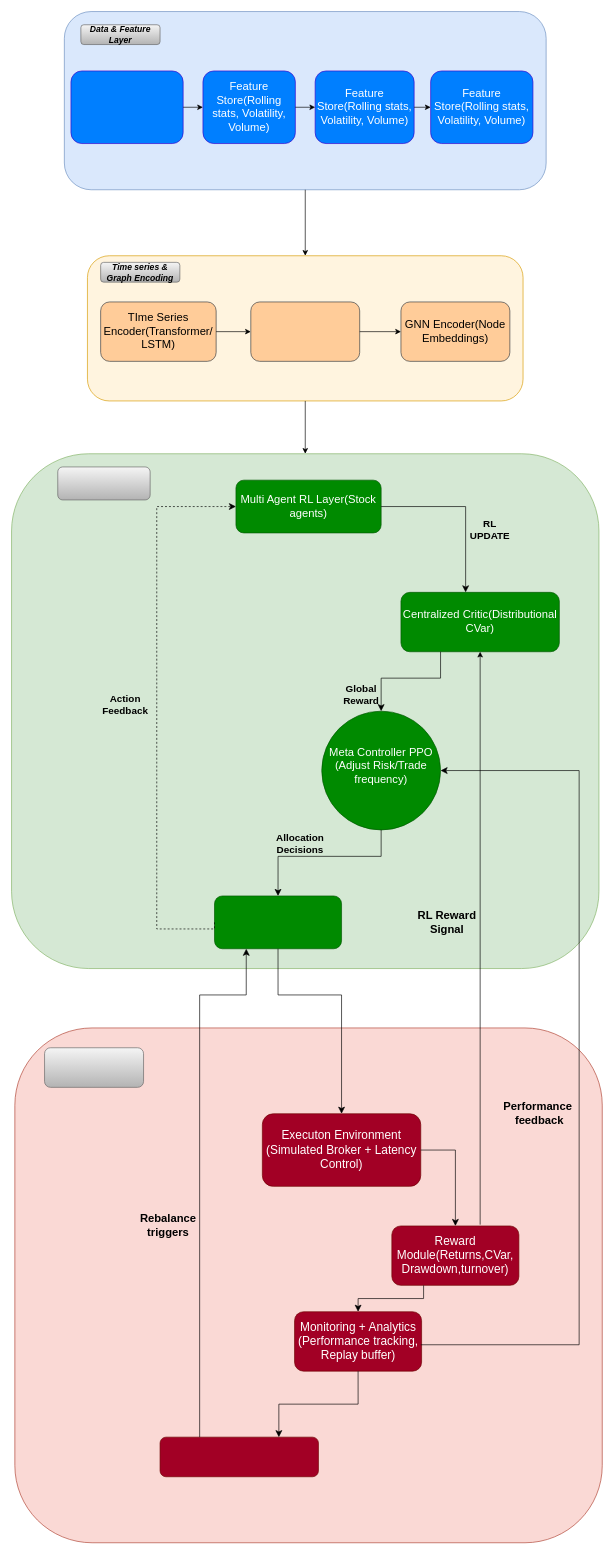
This 614x1554 diagram has some shape labels left out. The box of each missing label's shape, as (x1, y1, x2, y2) in pixels:
Execution & Feedback loop: (44, 1047, 144, 1087)
Graph Builder(Coorelation, Sector,Liquidity): (250, 301, 360, 361)
Market Data sourcers(Yahoo,NSE, Alphavantage): (70, 70, 183, 144)
Portfolio Constructor (Select top 20 stocks): (214, 895, 342, 949)
Rebalance Scheduler (Every 2-3 days adaptive): (159, 1436, 318, 1477)
RL Decision Layer: (57, 466, 150, 500)
